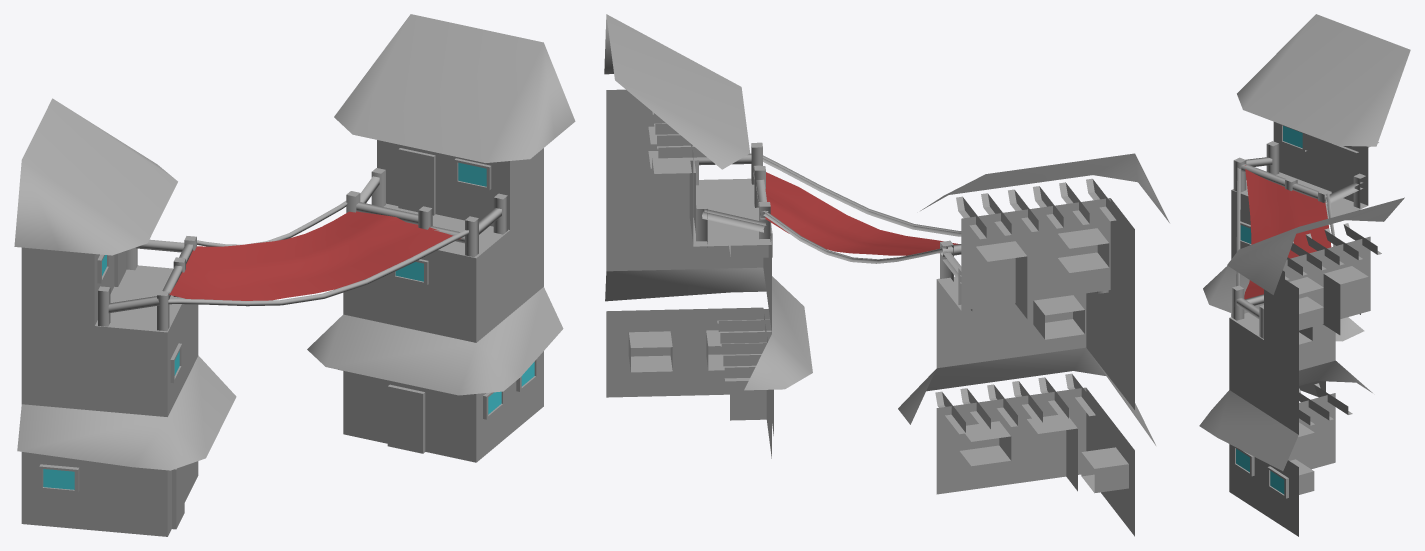
Rendered from blackMarket.fbx.
3 views of the same model, side by side, from view 1: azimuth 30°, elevation 25°; view 2: azimuth 150°, elevation 25°; view 3: azimuth 270°, elevation 25° (orthographic). The views are drawn at different scales.
Visible parts, largest first — view 1: pPlane3; view 2: pPlane3; view 3: pPlane3.
Part boxes in pixels (x1,y1,x2,y2): pPlane3: (14, 14, 575, 536); pPlane3: (604, 14, 1169, 536); pPlane3: (1199, 14, 1410, 536).
Bounding box in the file's own units: 15.97 × 10.12 × 6.25.
